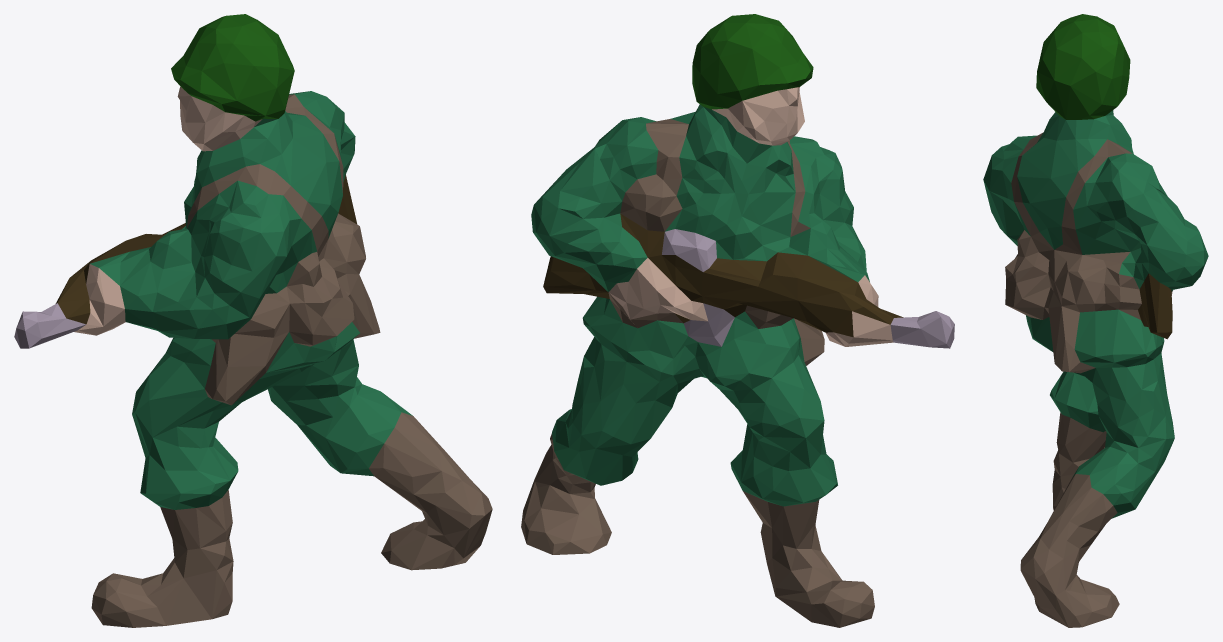
File: airborn_3_low_poly_colored.glb
3 renders of one model, left to right at view 1: azimuth 30°, elevation 25°; view 2: azimuth 150°, elevation 25°; view 3: azimuth 270°, elevation 25°, orthographic. The views are drawn at different scales.
Parts seen in each view (by area): view 1: Airborn_Elite_3; view 2: Airborn_Elite_3; view 3: Airborn_Elite_3.
Part boxes in pixels (x1,y1,x2,y2): Airborn_Elite_3: (14, 14, 492, 627); Airborn_Elite_3: (521, 14, 954, 627); Airborn_Elite_3: (983, 14, 1208, 627).
Size of the model in its own units: 1.35 by 1.66 by 0.6707.
